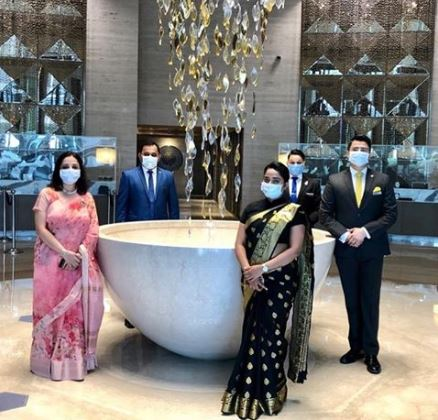Caution: (31, 125, 183, 242), (235, 139, 323, 309), (288, 133, 401, 217)
